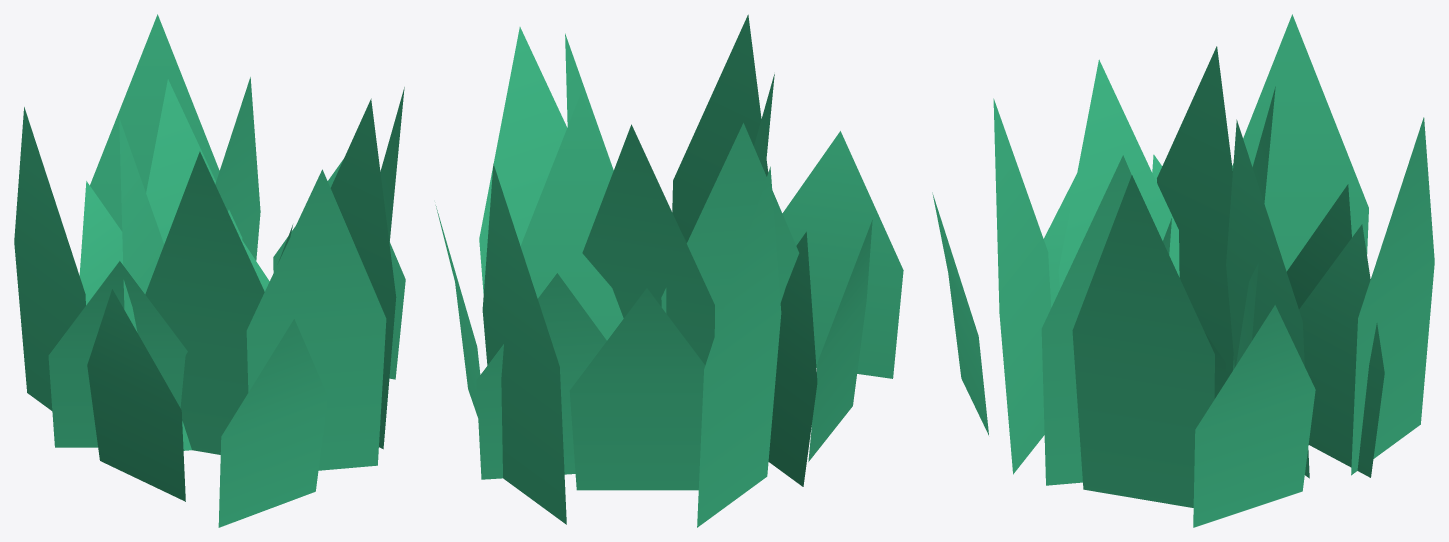
Rendered from Unmowed_High_100_0.glb.
3 views of the same model, side by side, from view 1: azimuth 30°, elevation 25°; view 2: azimuth 150°, elevation 25°; view 3: azimuth 270°, elevation 25° (orthographic). The views are drawn at different scales.
Parts seen in each view (by area): view 1: Mowed Grass High LOD; view 2: Mowed Grass High LOD; view 3: Mowed Grass High LOD.
Part boxes in pixels (<box>): Mowed Grass High LOD: <box>14,14,405,527</box>; Mowed Grass High LOD: <box>435,14,903,527</box>; Mowed Grass High LOD: <box>932,14,1434,527</box>.
Size of the model in its own units: 0.4313 by 0.38 by 0.5044.
